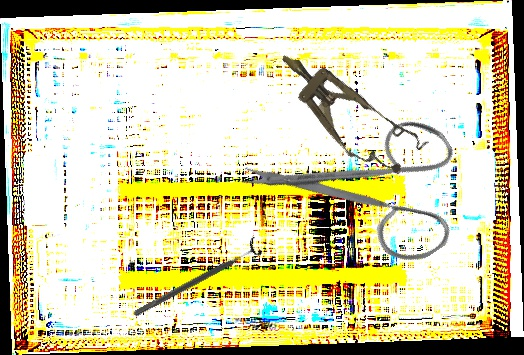Fixation Ring: (128, 235, 265, 324)
Iris Scissors: (234, 67, 495, 321)
Speculum: (262, 32, 430, 190)
